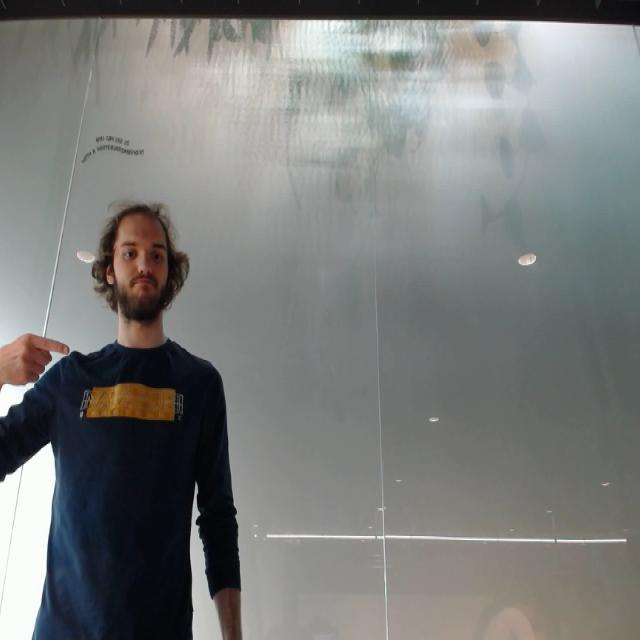right: (4, 323, 71, 400)
